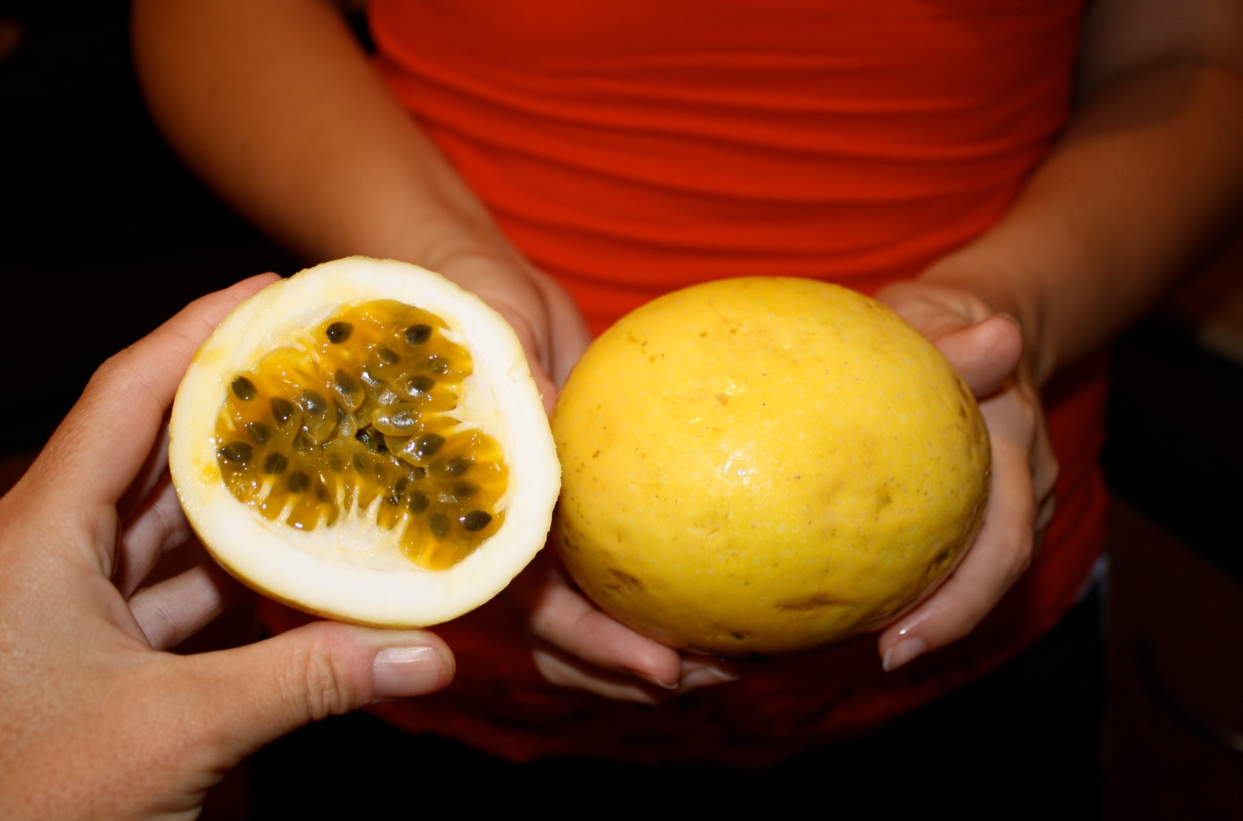maracuya: (525, 275, 1004, 674)
